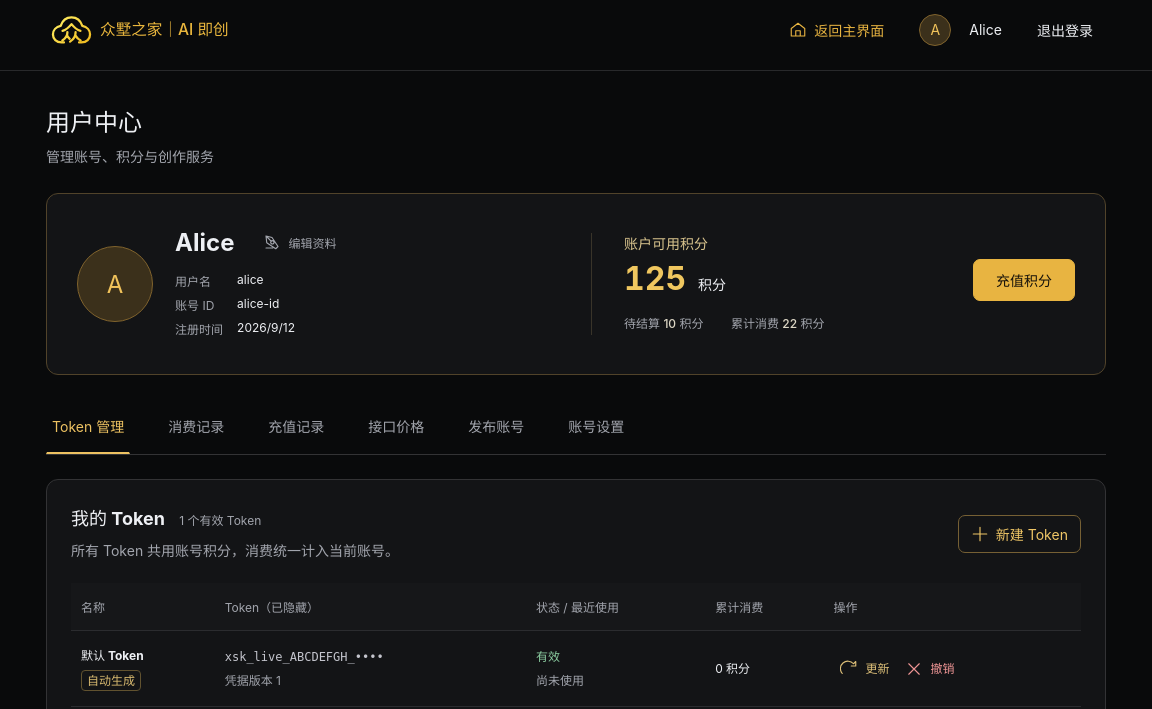
each function has one destination and account settings contain no device section
Check: the text "125" is shown, box x1=624 y1=259 x2=686 y2=298
Click the tab "账号设置" at (596, 427), box x1=562 y1=399 x2=630 y2=454
(page scrolled)
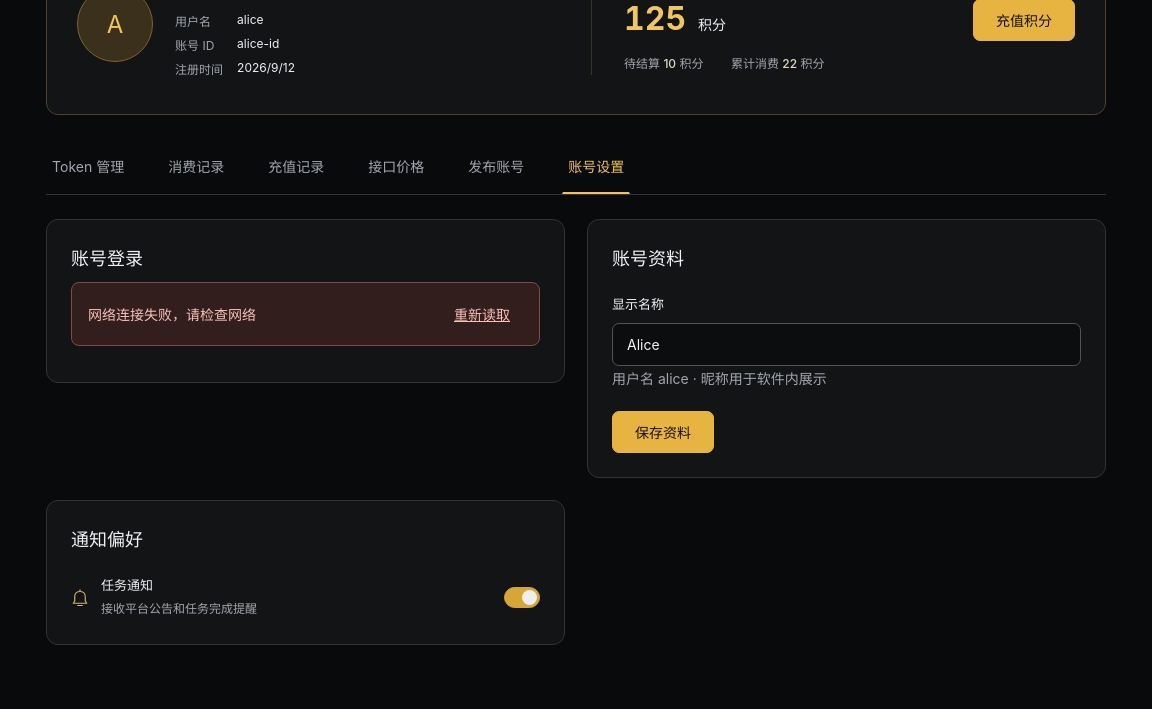
Check: the button "新建 Token" is gone
Check: the switch named "任务通知" is shown, box x1=504 y1=587 x2=540 y2=608
